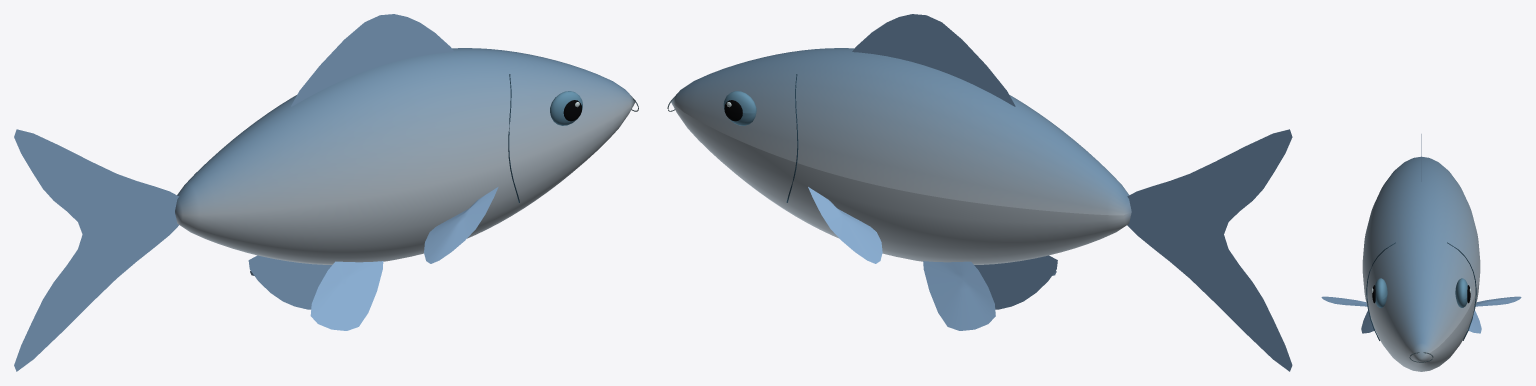
File: SM_DBA_FishSilver.fbx
3 renders of one model, left to right at view 1: azimuth 30°, elevation 25°; view 2: azimuth 150°, elevation 25°; view 3: azimuth 270°, elevation 25°, orthographic. The views are drawn at different scales.
Visible parts, largest first — view 1: SM_DBA_FishSilver; view 2: SM_DBA_FishSilver; view 3: SM_DBA_FishSilver.
Part boxes in pixels (left/top/right/bottom): SM_DBA_FishSilver: left=14, top=14, right=638, bottom=371; SM_DBA_FishSilver: left=667, top=14, right=1292, bottom=371; SM_DBA_FishSilver: left=1321, top=134, right=1521, bottom=371.
Bounding box in the file's own units: 0.0813 × 0.236 × 0.1016.
